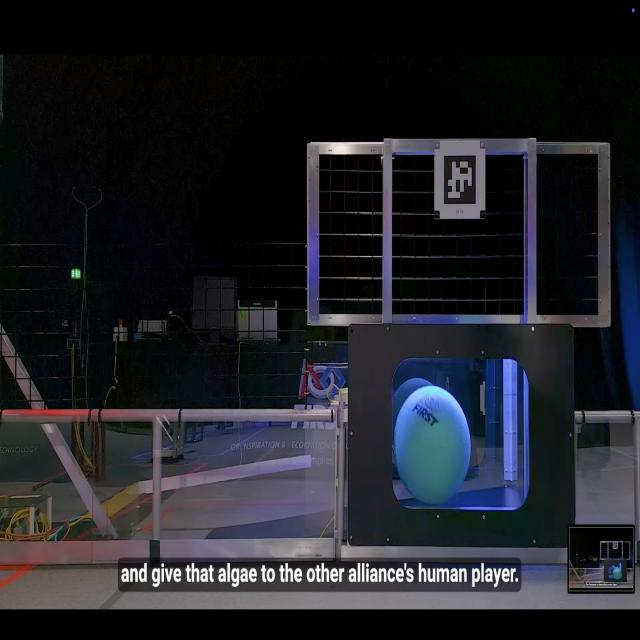algae: (392, 383, 475, 508)
